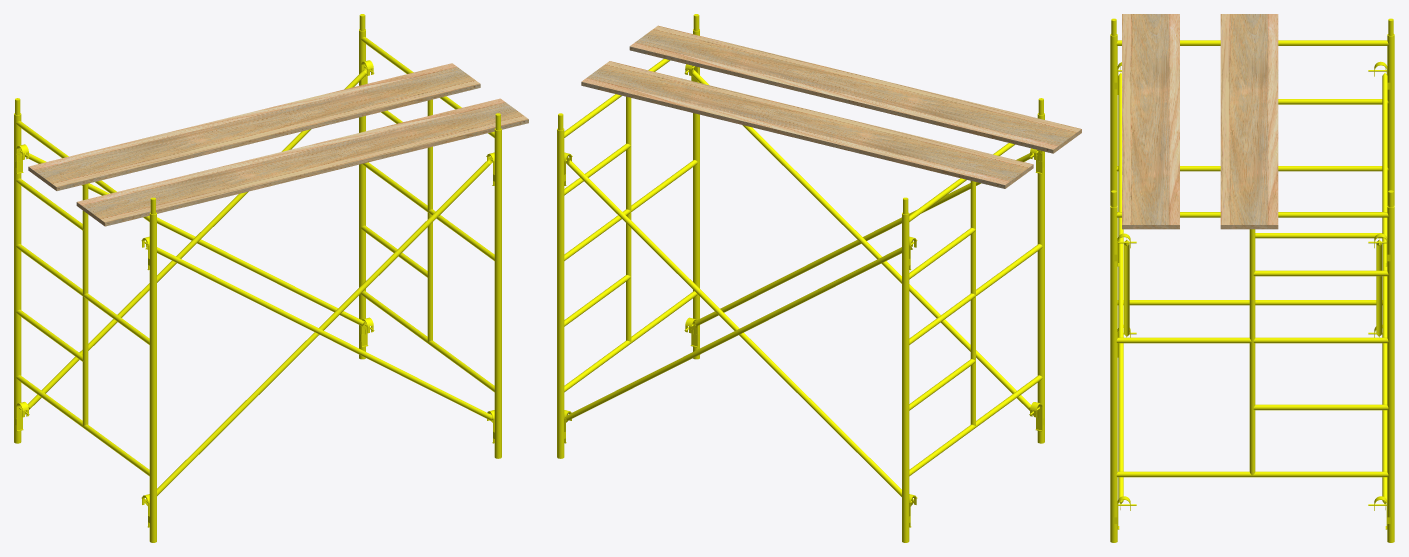
Rendered from andamio.FBX.
The picture shows the model from 3 angles, left to right: view 1: azimuth 30°, elevation 25°; view 2: azimuth 150°, elevation 25°; view 3: azimuth 270°, elevation 25°; orthographic projection. The views are drawn at different scales.
Visible parts, largest first — view 1: Box148, Box147, marco (×6), group_2 (×4), group_25 (×4); view 2: Box147, Box148, marco (×6), group_2 (×4), group_25 (×4); view 3: Box148, Box147, marco (×5), group_25 (×6), group_2 (×4), group_26 (×2), group_24 (×2).
Boxes of the visible parts, x1,y1,x2,y2 form: Box148: (28, 63, 480, 190); Box147: (76, 98, 528, 226); marco (×6): (14, 29, 501, 542); group_2 (×4): (47, 129, 472, 478); group_25 (×4): (16, 162, 494, 476); Box147: (629, 25, 1081, 153); Box148: (581, 61, 1033, 188); marco (×6): (557, 29, 1044, 542); group_2 (×4): (586, 125, 1010, 478); group_25 (×4): (564, 160, 1042, 476); Box148: (1220, 14, 1278, 229); Box147: (1122, 14, 1179, 229); marco (×5): (1110, 34, 1394, 542); group_25 (×6): (1116, 166, 1388, 477); group_2 (×4): (1118, 100, 1387, 471); group_26 (×2): (1116, 40, 1388, 217); group_24 (×2): (1253, 99, 1388, 276).
Size of the model in its own units: 270 by 208 by 154.
